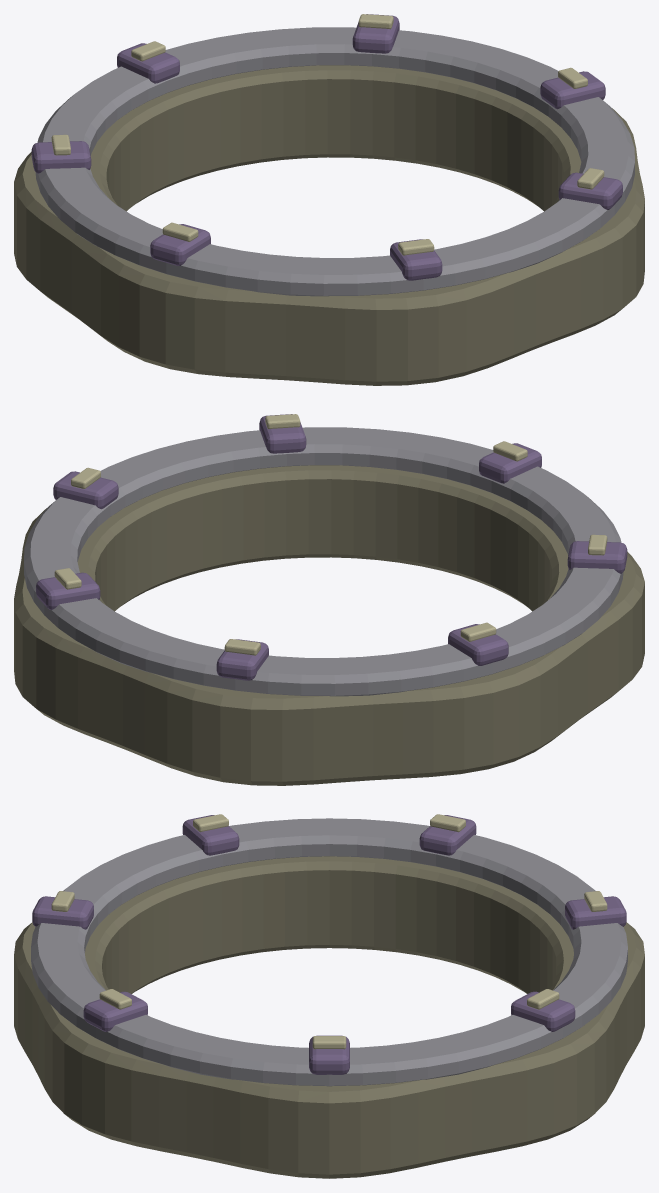
The model's file is STAR_TELEPORT_PAD.hi.glb.
3 views of the same model, one above another, from view 1: azimuth 30°, elevation 25°; view 2: azimuth 150°, elevation 25°; view 3: azimuth 270°, elevation 25° (orthographic).
Parts seen in each view (by area): view 1: Body_Mesh; view 2: Body_Mesh; view 3: Body_Mesh.
Boxes of the visible parts, x1,y1,x2,y2 form: Body_Mesh: (14, 14, 644, 385); Body_Mesh: (14, 414, 644, 785); Body_Mesh: (14, 814, 644, 1178).
Bounding box in the file's own units: 1.3 × 0.285 × 1.32.
